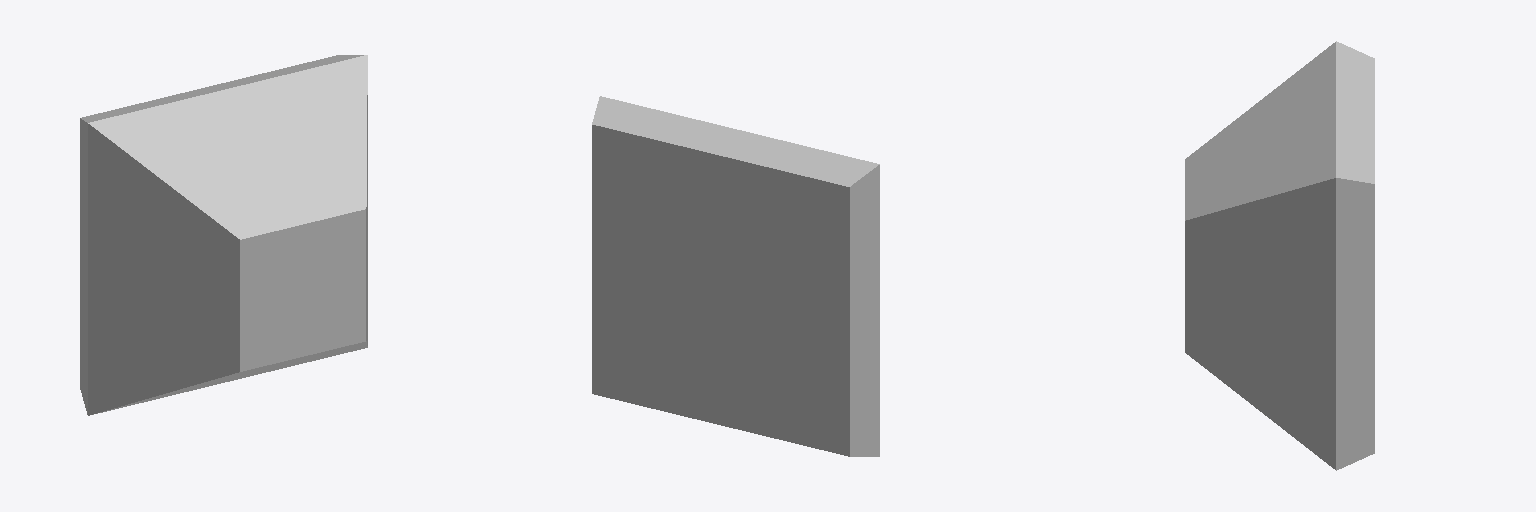
Rendered from director.obj.
3 views of the same model, side by side, from view 1: azimuth 30°, elevation 25°; view 2: azimuth 150°, elevation 25°; view 3: azimuth 270°, elevation 25° (orthographic).
Visible parts, largest first — view 1: Cube_Cube.001; view 2: Cube_Cube.001; view 3: Cube_Cube.001.
Part boxes in pixels (x1,y1,x2,y2): Cube_Cube.001: (80, 55, 367, 415); Cube_Cube.001: (592, 96, 879, 456); Cube_Cube.001: (1185, 41, 1374, 470).
Size of the model in its own units: 0.6371 by 0.6371 by 0.3726.